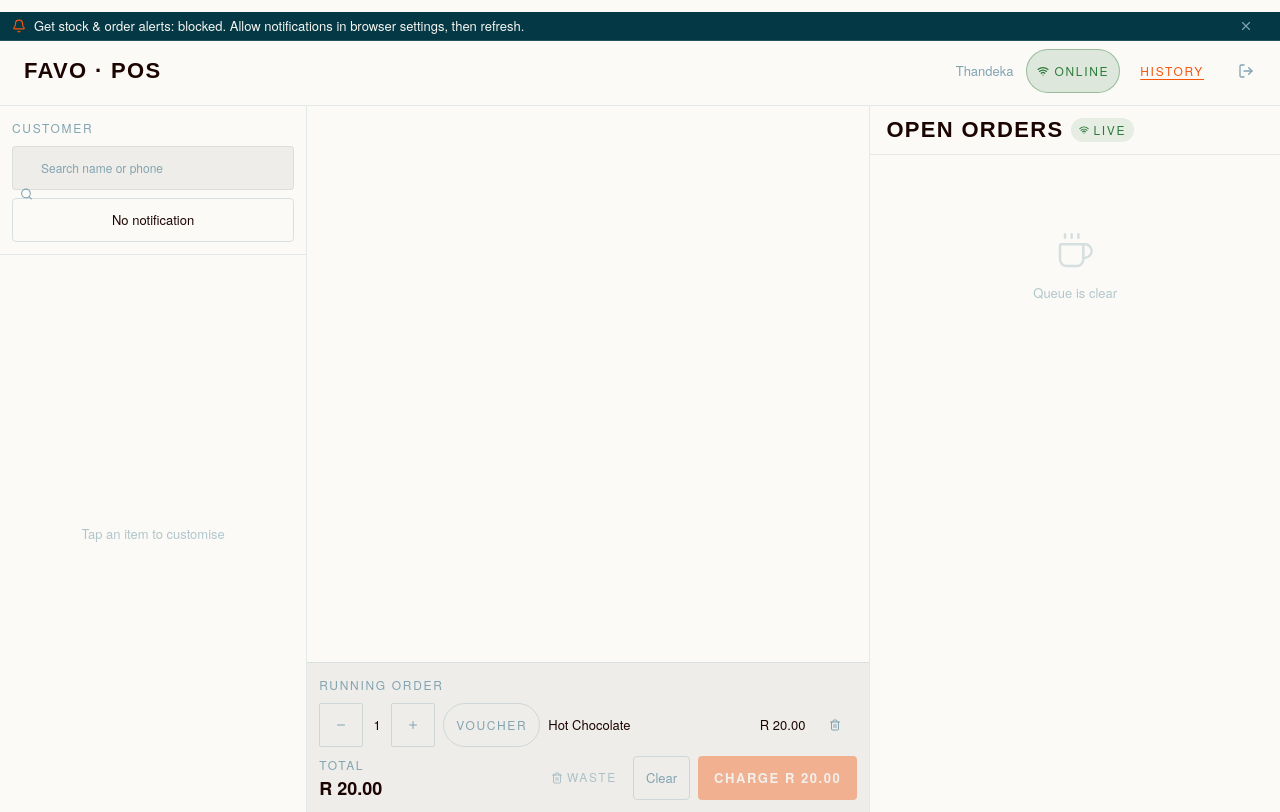
Scenario: §6.9.3 — one tap, no confirm; REQ-147 m of n › one tap on a quantity-1 line strikes it to R0 with 1 of 1; a second tap removes it
Click the button "voucher".
click(492, 725)  # box x1=443 y1=703 x2=540 y2=747
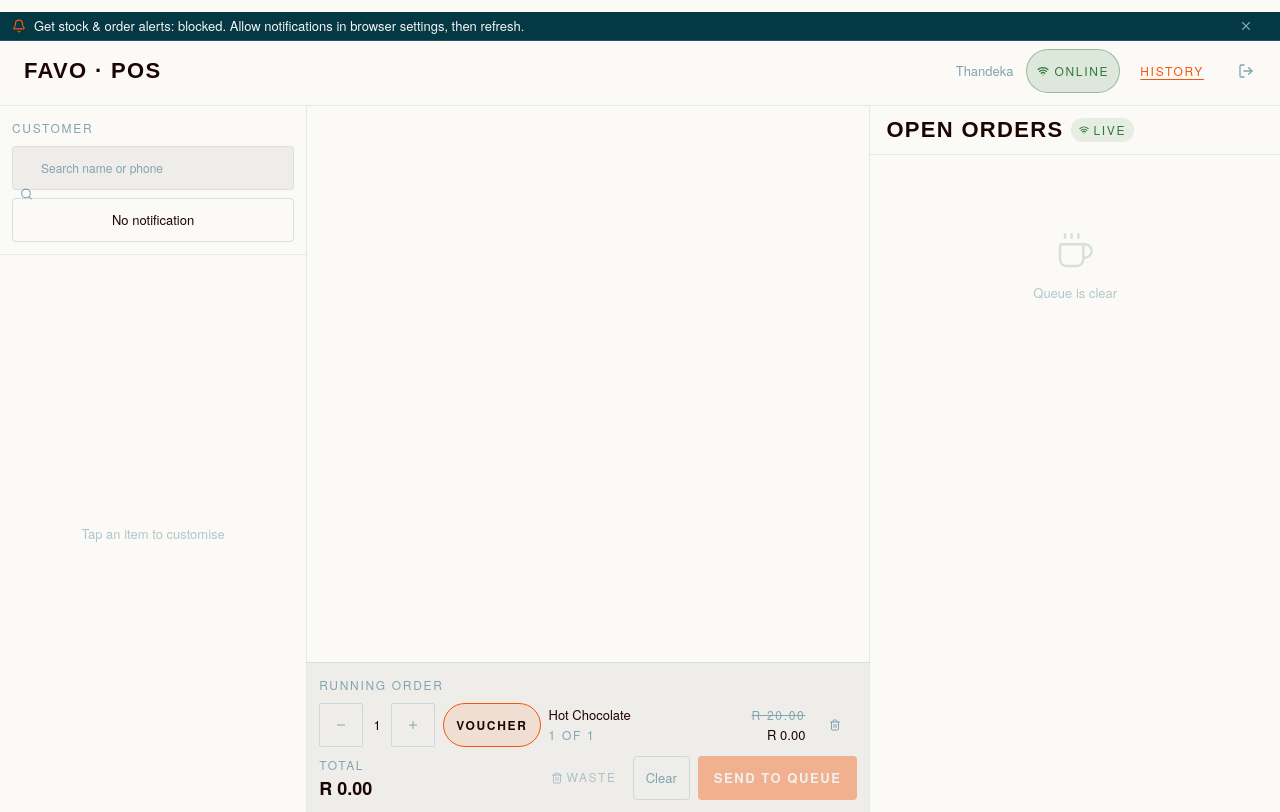
Result: the text "1 of 1" is shown at x1=549 y1=726 x2=595 y2=743
Click the button "voucher".
click(492, 725)  # box x1=443 y1=703 x2=541 y2=747
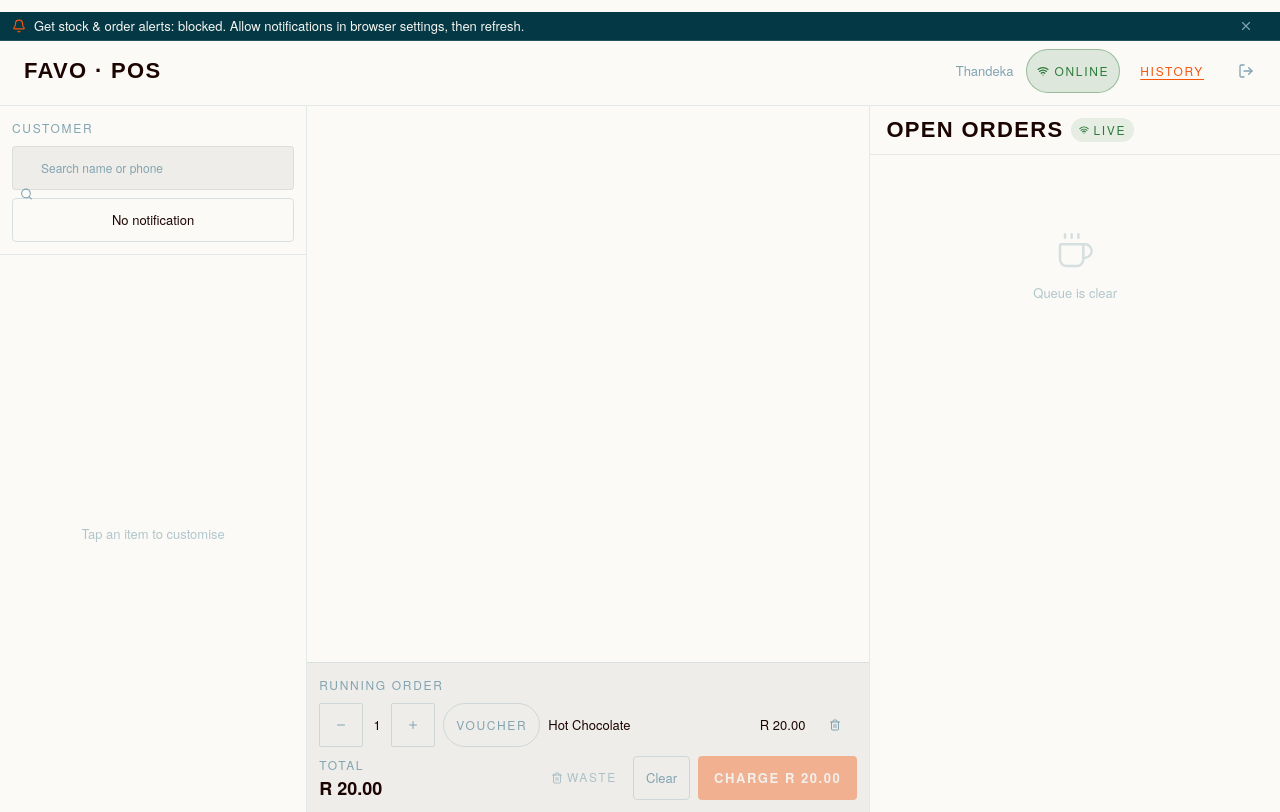
Result: the text "1 of 1" is gone
